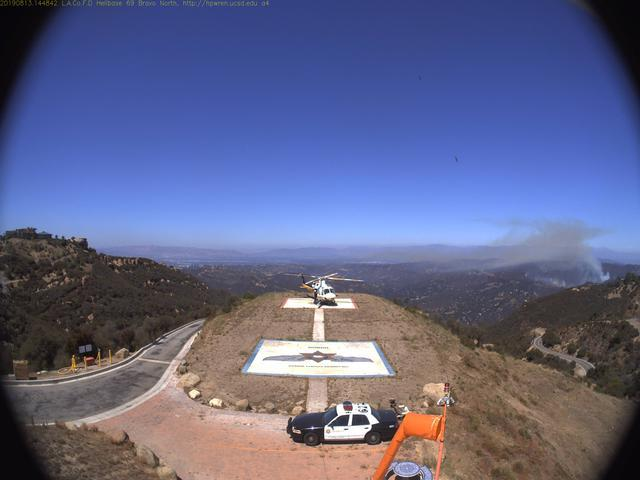smoke: (470, 215, 615, 288)
